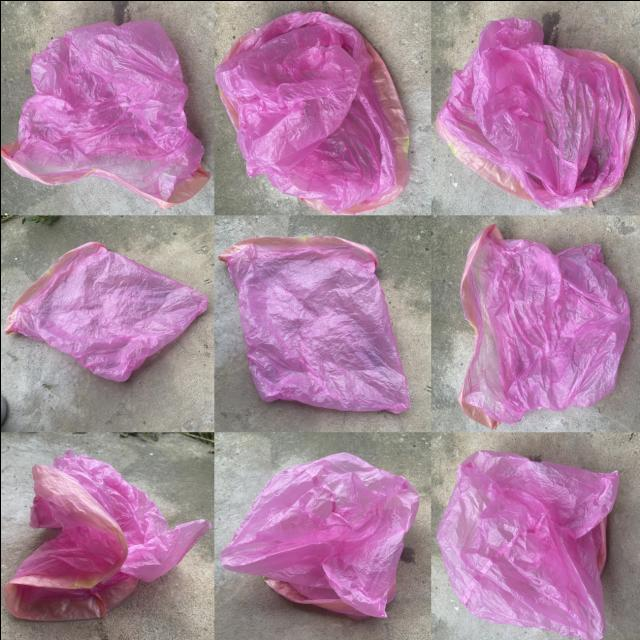plastik: (0, 19, 210, 208), (214, 10, 408, 214), (435, 17, 639, 208), (4, 450, 211, 620), (458, 224, 629, 428), (436, 450, 618, 640), (220, 451, 418, 616), (226, 235, 408, 412), (4, 241, 207, 381)
